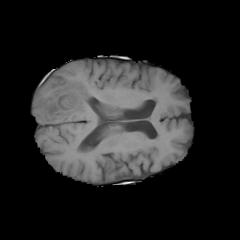glioma: (47, 79, 95, 119)
